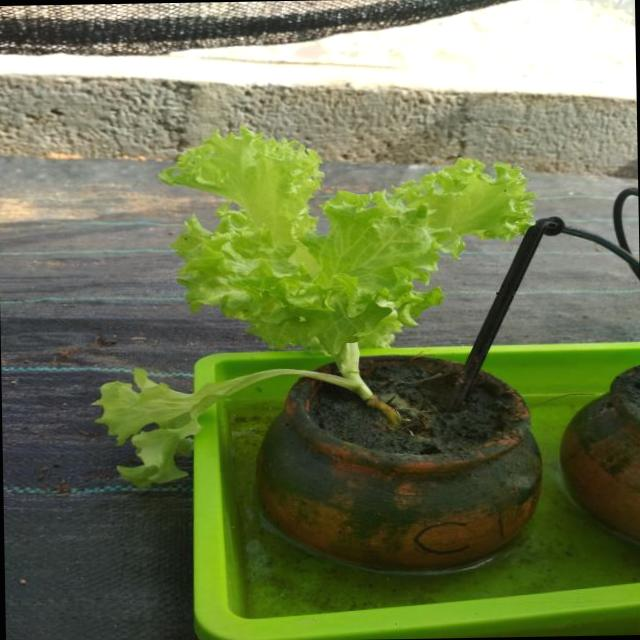Lettuce-Not-Ready-to-Harvest: (98, 126, 533, 485)
